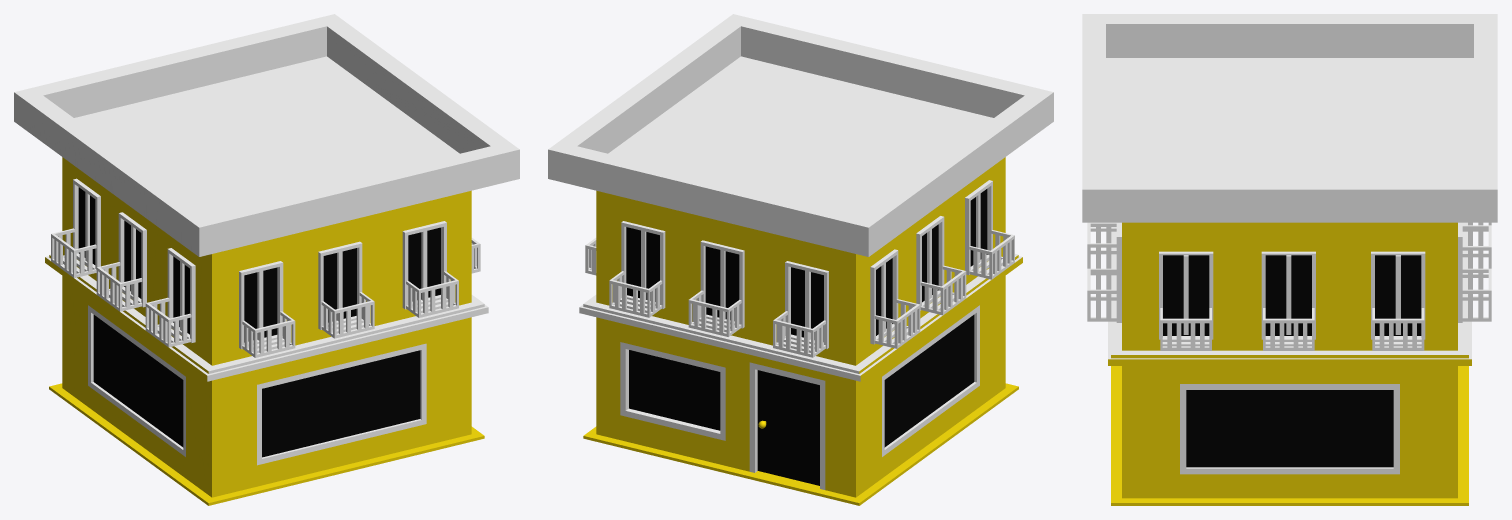
Rendered from house6.fbx.
The picture shows the model from 3 angles, left to right: view 1: azimuth 30°, elevation 25°; view 2: azimuth 150°, elevation 25°; view 3: azimuth 270°, elevation 25°; orthographic projection. The views are drawn at different scales.
Parts seen in each view (by area): view 1: house6; view 2: house6; view 3: house6.
Boxes of the visible parts, x1=… form: house6: x1=14, y1=14, x2=519, y2=505; house6: x1=548, y1=14, x2=1053, y2=505; house6: x1=1082, y1=14, x2=1497, y2=505.
Size of the model in its own units: 782 by 683 by 782.
